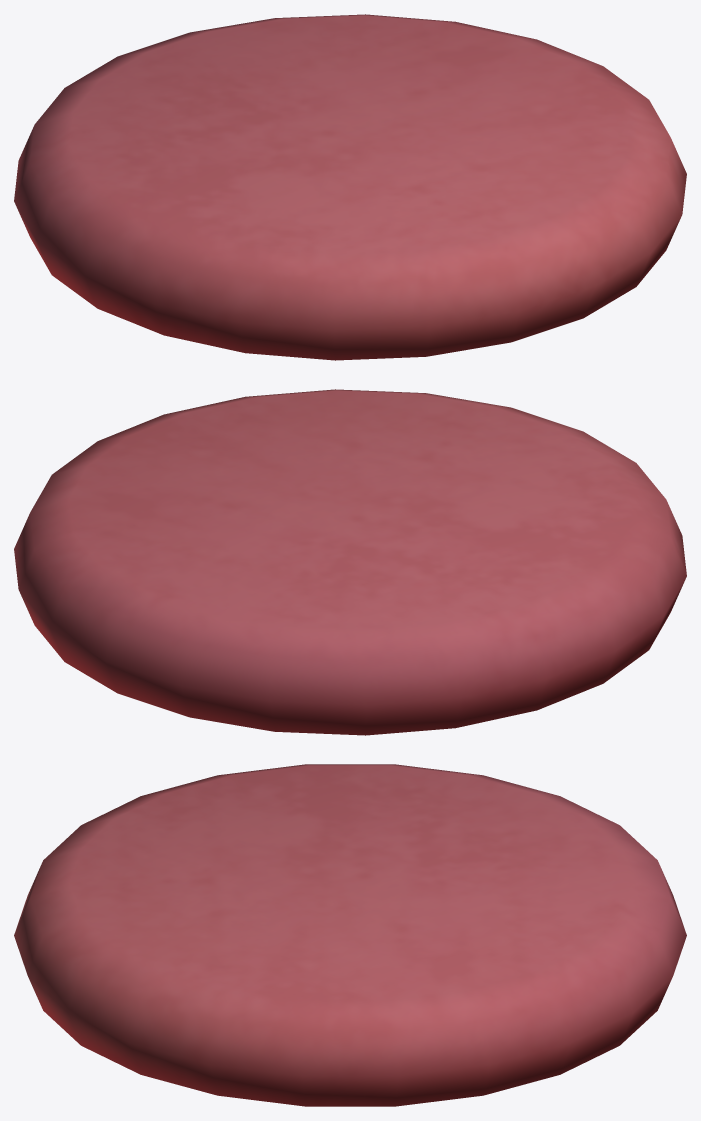
The model's file is BurgerMeatRaw.fbx.
The picture shows the model from 3 angles, top to bottom: view 1: azimuth 30°, elevation 25°; view 2: azimuth 150°, elevation 25°; view 3: azimuth 270°, elevation 25°; orthographic projection.
Parts seen in each view (by area): view 1: Patty.Raw; view 2: Patty.Raw; view 3: Patty.Raw.
Part boxes in pixels (bbox=[...]): Patty.Raw: bbox=[14, 14, 686, 360]; Patty.Raw: bbox=[14, 389, 686, 735]; Patty.Raw: bbox=[14, 764, 686, 1106].
Bounding box in the file's own units: 42.35 × 7.35 × 42.78.
